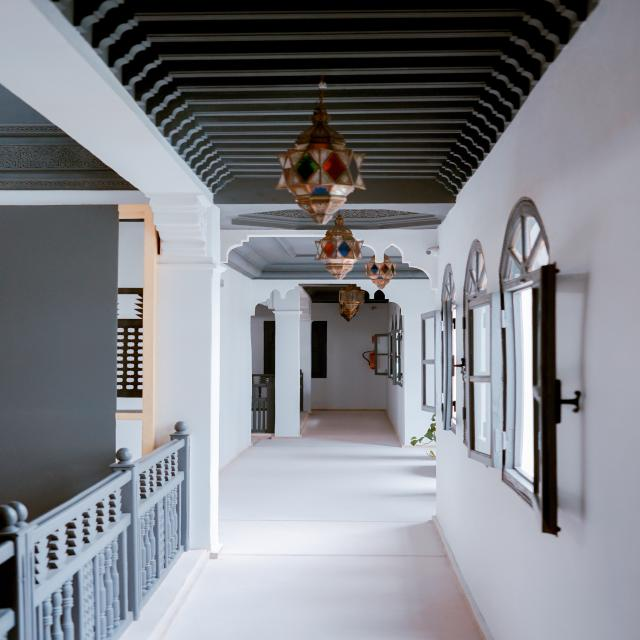floor: (159, 411, 487, 640)
